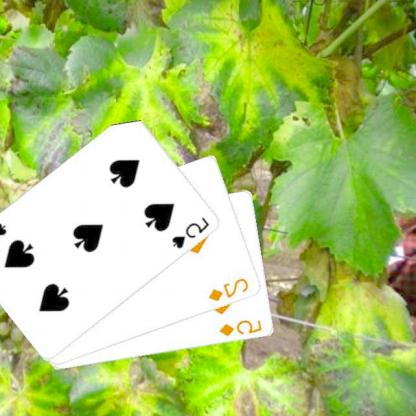2D: (208, 275, 253, 302)
5D: (218, 317, 266, 338)
5S: (171, 214, 213, 251), (0, 220, 11, 256)
